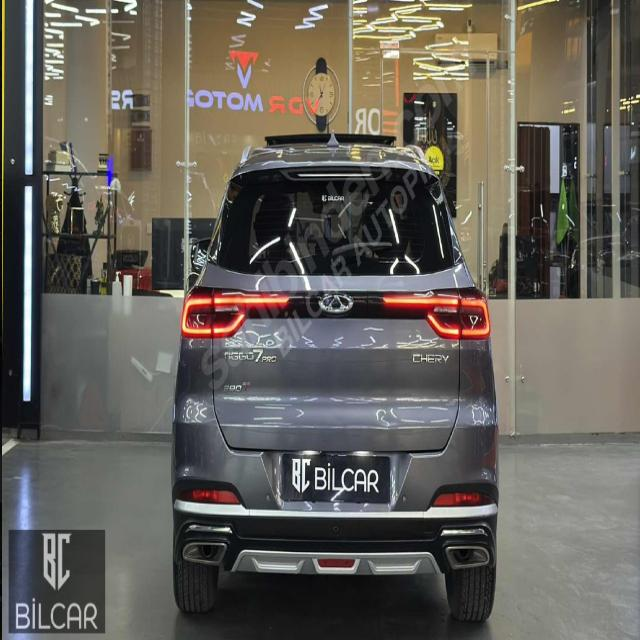cherry: (318, 286, 357, 320)
